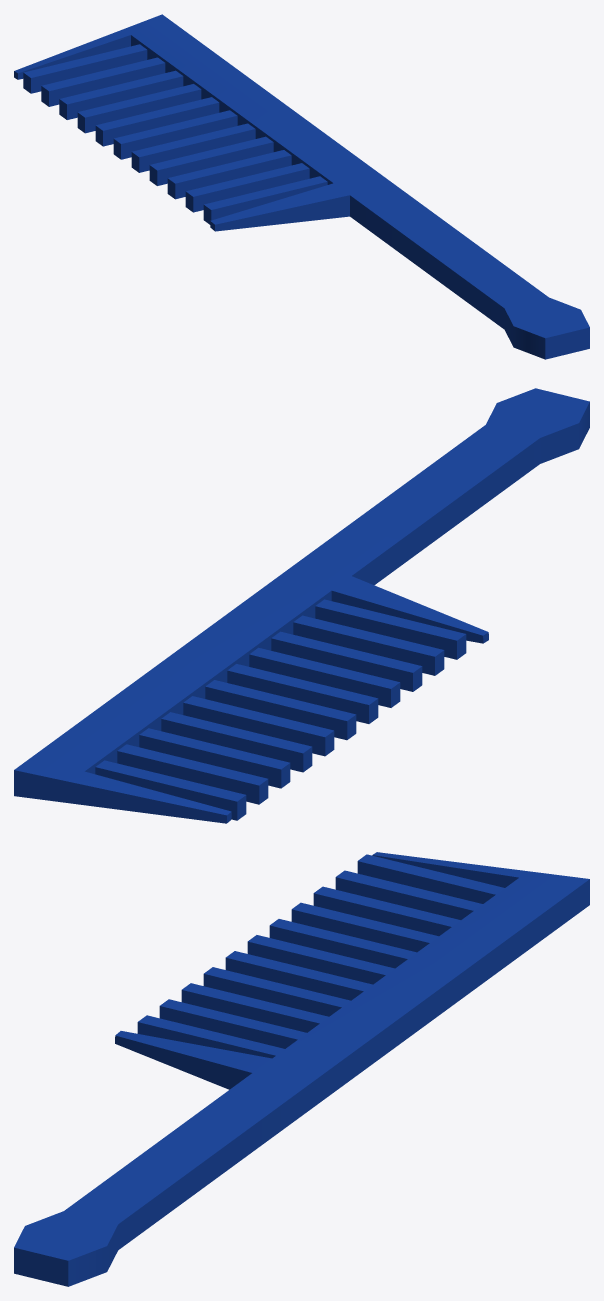
The model's file is SM_Comb.fbx.
The picture shows the model from 3 angles, top to bottom: view 1: azimuth 30°, elevation 25°; view 2: azimuth 150°, elevation 25°; view 3: azimuth 330°, elevation 25°; orthographic projection. The views are drawn at different scales.
Parts seen in each view (by area): view 1: SM_Comb; view 2: SM_Comb; view 3: SM_Comb.
Boxes of the visible parts, x1,y1,x2,y2 form: SM_Comb: (14,14,589,359); SM_Comb: (14,388,589,823); SM_Comb: (14,852,589,1286).
Size of the model in its own units: 10.71 by 44.16 by 1.22.
1 material, 1 textured.
